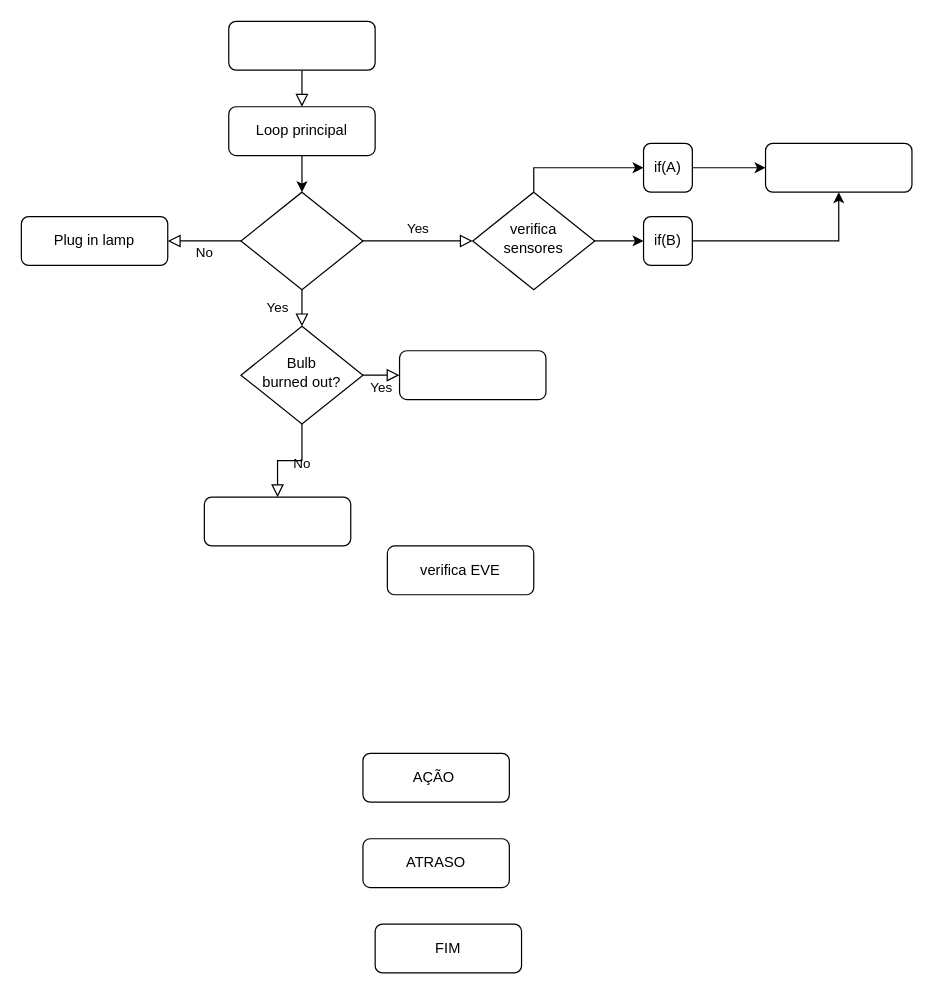
The diagram is 933 pixels wide and 994 high, and some of its shapes have lost their labels. Here are the shapes that lost their labels. From the top down, the box of each, then its label:
(228, 20, 375, 70): start (início)
(764, 142, 912, 192): EVS
(240, 191, 363, 290): verifica input(entrada I)
(398, 350, 546, 400): Replace Bulb
(203, 496, 351, 546): Repair Lamp
